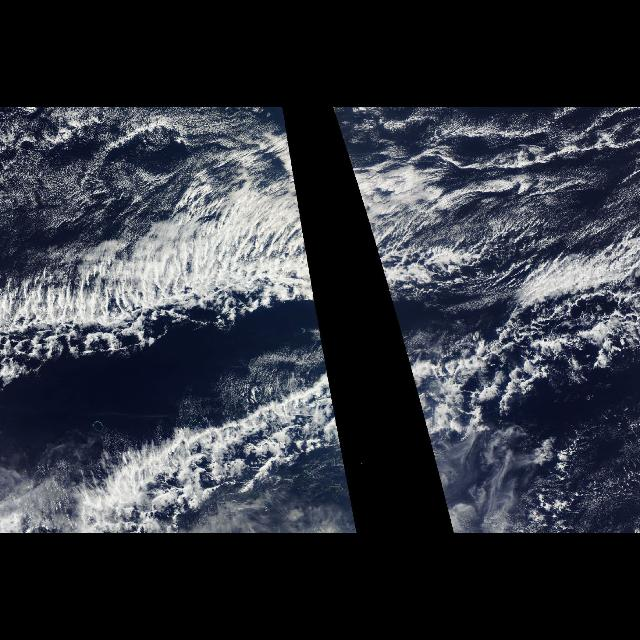Fish: (0, 161, 358, 533), (348, 161, 640, 533)
Flower: (454, 314, 624, 422)
Sugar: (11, 110, 212, 222)
